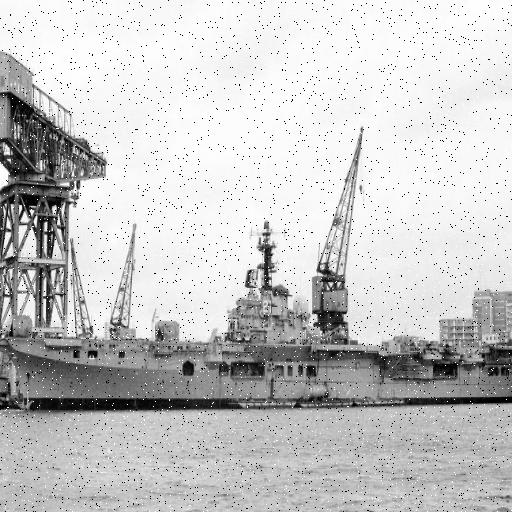Portanaves: (1, 211, 512, 413)
